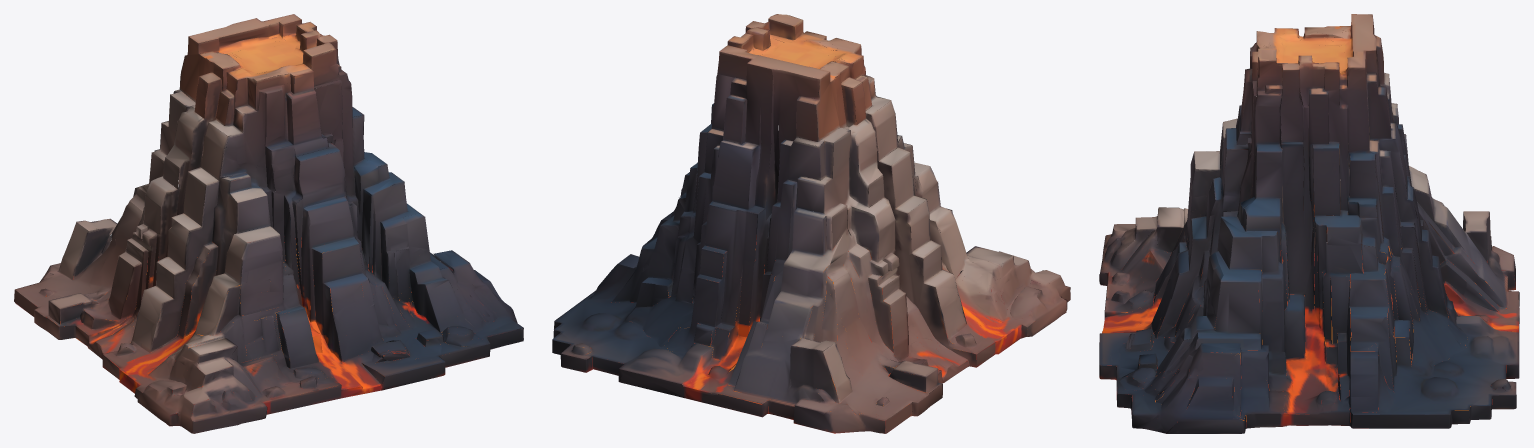
Rendered from lava_mountain.glb.
3 views of the same model, side by side, from view 1: azimuth 30°, elevation 25°; view 2: azimuth 150°, elevation 25°; view 3: azimuth 270°, elevation 25° (orthographic). The views are drawn at different scales.
Parts seen in each view (by area): view 1: node_0; view 2: node_0; view 3: node_0.
Boxes of the visible parts, x1,y1,x2,y2 form: node_0: [14, 14, 523, 433]; node_0: [552, 14, 1070, 433]; node_0: [1099, 14, 1519, 433].
Size of the model in its own units: 0.8002 by 0.5901 by 0.7459.
1 material, 1 textured.
